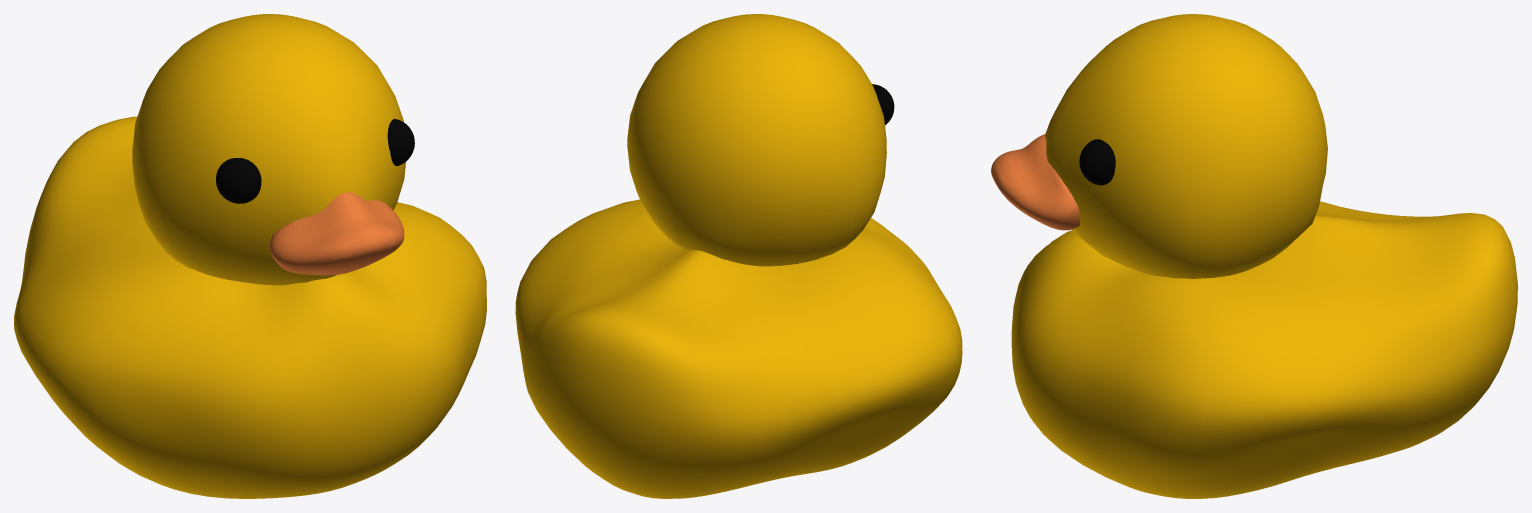
Rendered from Duck.fbx.
3 views of the same model, side by side, from view 1: azimuth 30°, elevation 25°; view 2: azimuth 150°, elevation 25°; view 3: azimuth 270°, elevation 25° (orthographic). The views are drawn at different scales.
Parts seen in each view (by area): view 1: Duck; view 2: Duck; view 3: Duck.
Part boxes in pixels (x1,y1,x2,y2): Duck: (14, 14, 486, 498); Duck: (515, 14, 962, 498); Duck: (991, 14, 1517, 498).
Size of the model in its own units: 192 by 188 by 207.
